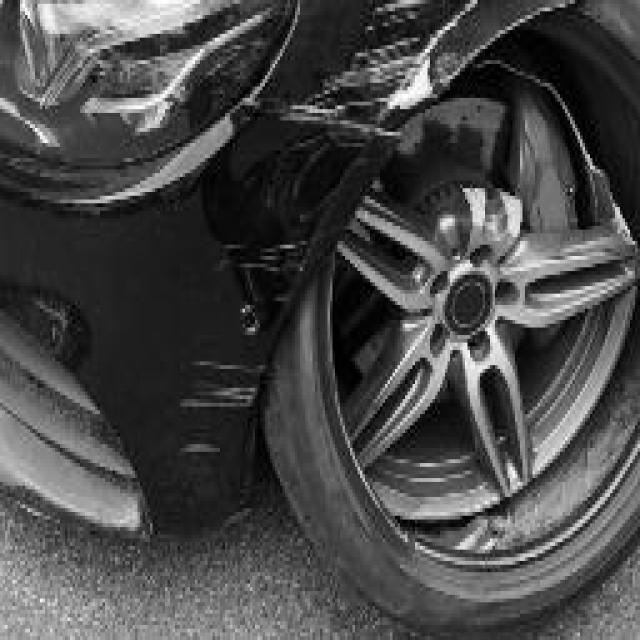Bumper: (145, 108, 397, 540)
Fender: (255, 0, 582, 126)
